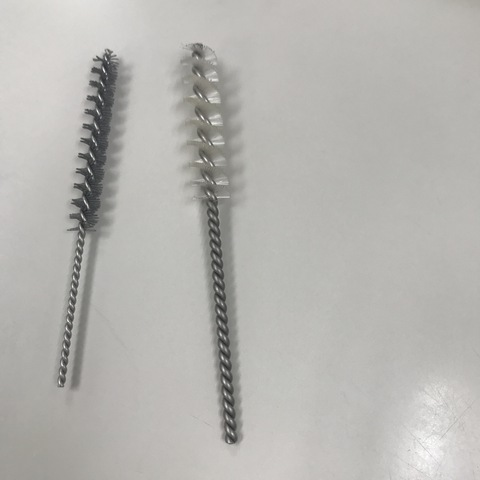Twist Brush-A: (46, 50, 126, 390)
Twist Brush-B: (172, 37, 248, 448)
